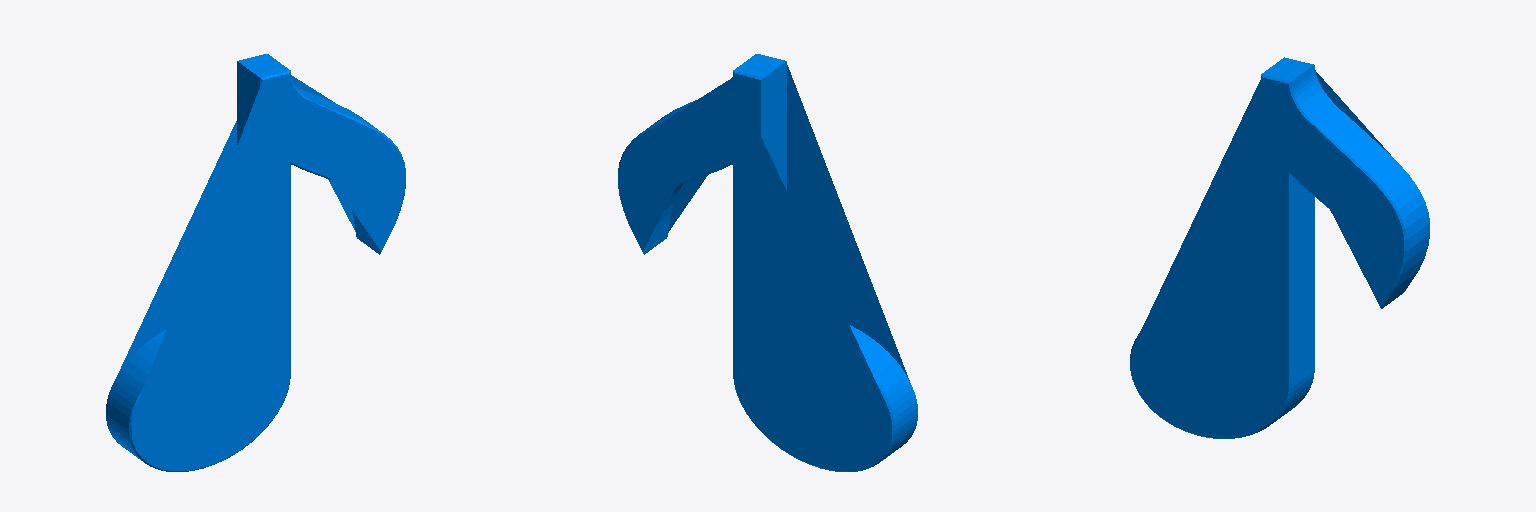
The model's file is bluenote.obj.
The picture shows the model from 3 angles: view 1: azimuth 30°, elevation 25°; view 2: azimuth 150°, elevation 25°; view 3: azimuth 330°, elevation 25°; orthographic projection.
Parts seen in each view (by area): view 1: Cap_1, Extrude.9, Cap_2, Rounding_1; view 2: Cap_2, Cap_1, Extrude.9, Rounding_2; view 3: Cap_1, Extrude.9, Rounding_1, Cap_2.
Part boxes in pixels (x1,y1,x2,y2): Cap_1: (132,73,405,470); Extrude.9: (106,54,383,460); Cap_2: (118,75,355,373); Rounding_1: (129,71,405,471); Cap_2: (618,73,891,470); Cap_1: (668,65,909,380); Extrude.9: (640,54,917,460); Rounding_2: (618,71,894,471); Cap_1: (1130,77,1403,437); Extrude.9: (1261,57,1429,421); Rounding_1: (1130,75,1406,438); Cap_2: (1315,70,1390,154).
Bounding box in the file's own units: 206 × 268 × 32.4.